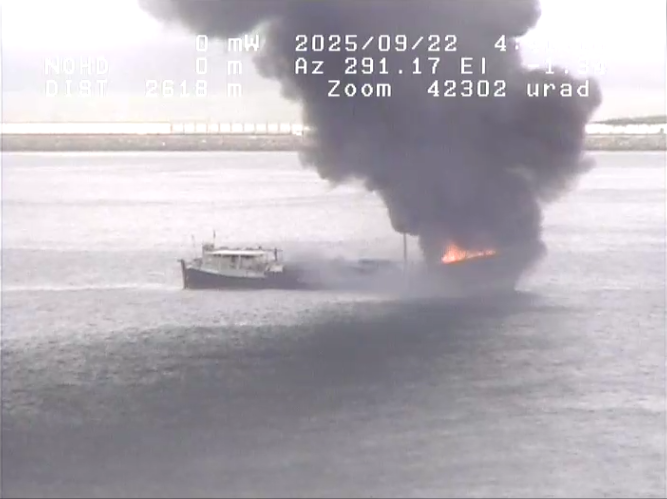FIRE_ONBOARD: (143, 7, 595, 332)
FISHING_VESSEL: (158, 207, 562, 302)
